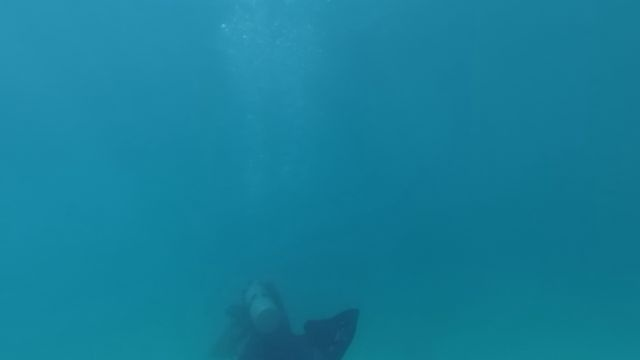Diver: (193, 271, 369, 354)
